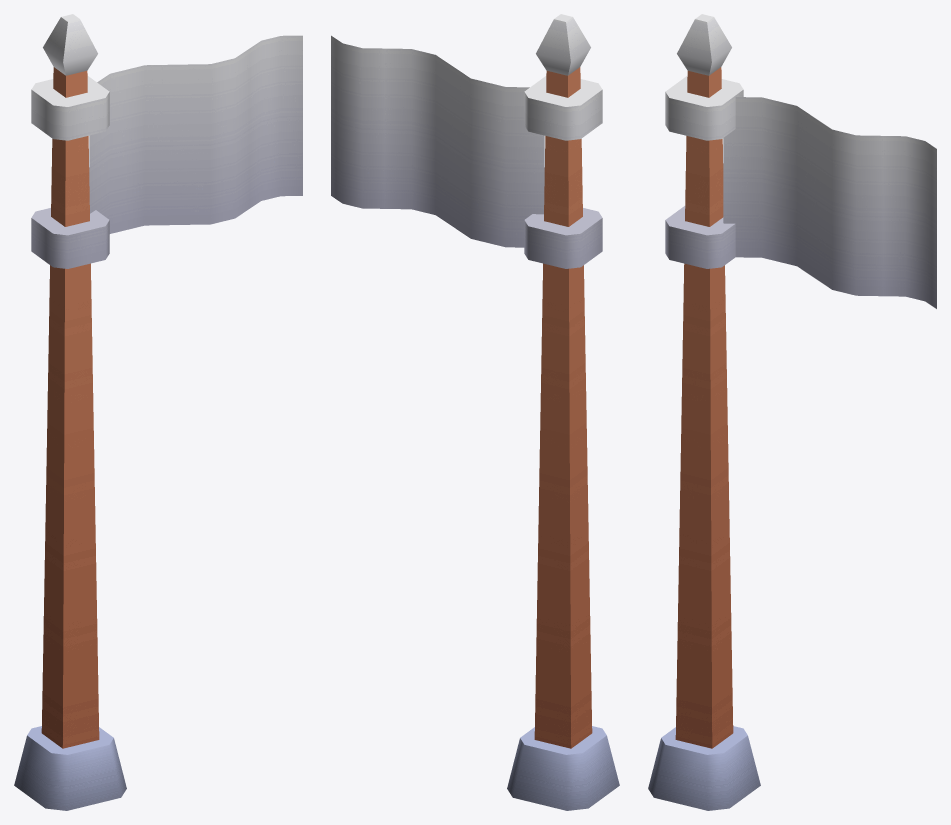
File: flag-high.002_lev2.glb
3 renders of one model, left to right at view 1: azimuth 30°, elevation 25°; view 2: azimuth 150°, elevation 25°; view 3: azimuth 330°, elevation 25°, orthographic.
Parts seen in each view (by area): view 1: flag-high.002_lev2; view 2: flag-high.002_lev2; view 3: flag-high.002_lev2.
Boxes of the visible parts, box(x1,y1,x2,y2) form: flag-high.002_lev2: box(14, 14, 302, 810); flag-high.002_lev2: box(331, 14, 619, 810); flag-high.002_lev2: box(648, 14, 936, 810).
Bounding box in the file's own units: 2.82 × 7.58 × 0.8401.
Materials: 1 (1 with a texture image).
